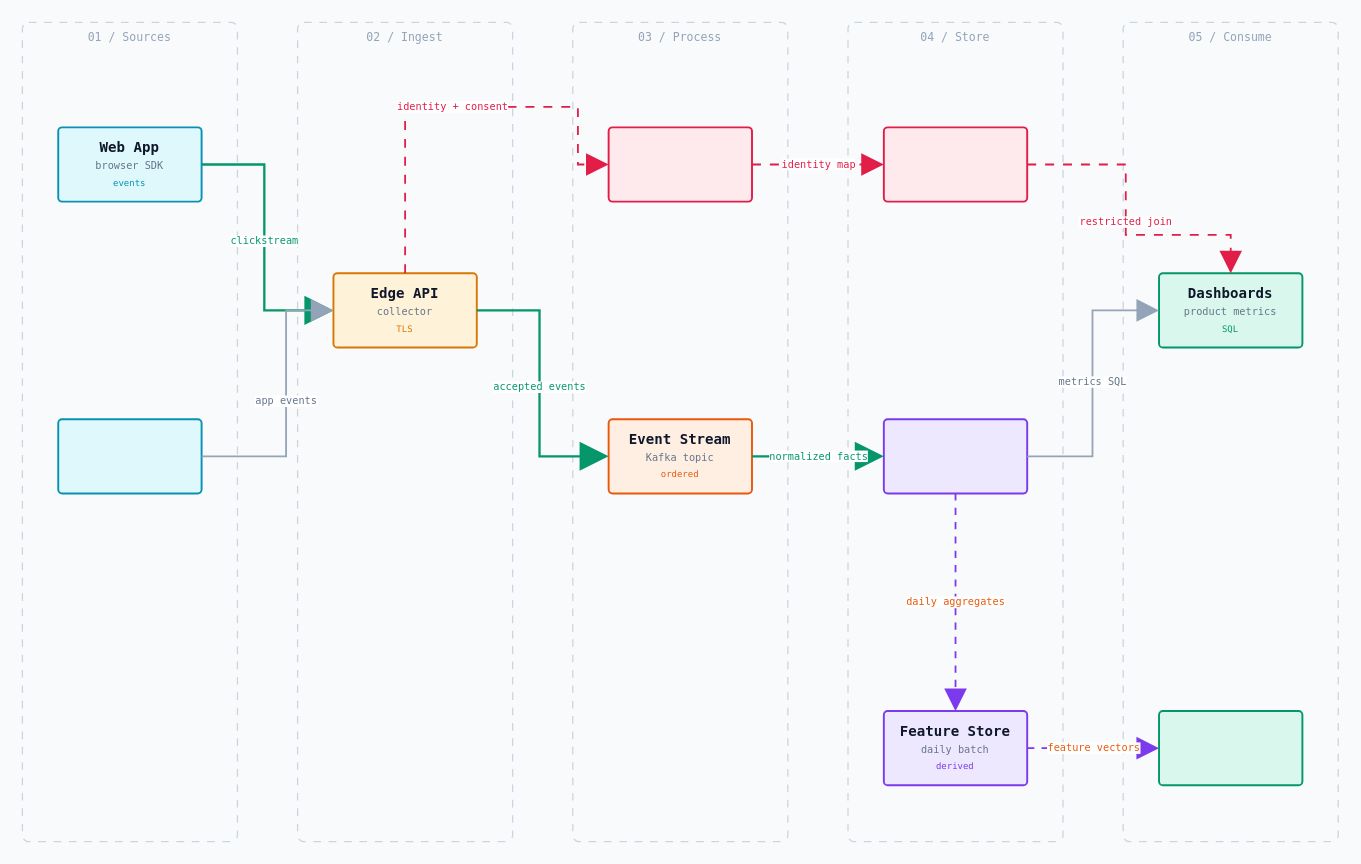
Image size: 1361x864. Some labels were removed from this diagram. The shapes that lost their labels are listed below. From the top down, each one's centre as x and y in pixels, then its label:
At (679,164): "Consent Gate policy filter PII guard".
At (955,164): "PII Vault encrypted restricted".
At (129,456): "Mobile iOS / Android events".
At (955,456): "Warehouse analytics tables curated".
At (1230,748): "ML Model ranking job features".
